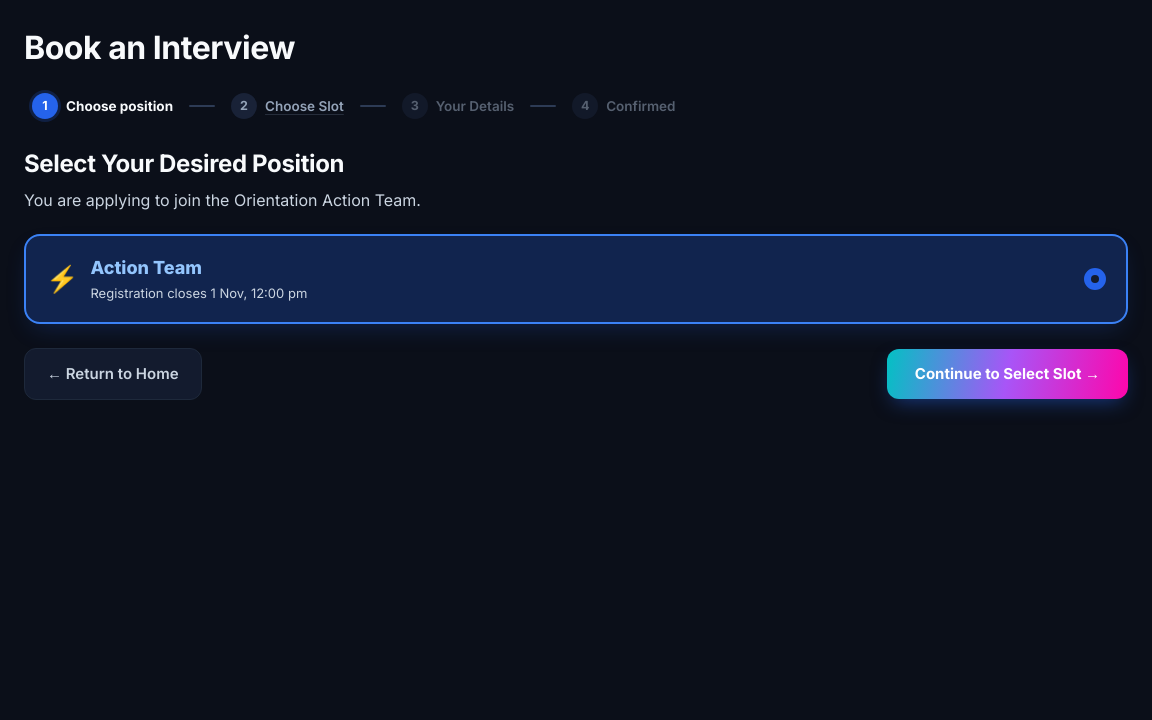
BookClient history and hold release › blocks proceeding when the closing time passes while the user is on the page
Expected: the text "Registration closes 1 Nov, 12:00 pm" is shown, [90,284,307,304]
What coordinates should you click on to do the following:
click the button "Continue to Select Slot →"
I would click on:
 (1007, 374)
Its box is [887,348,1128,399].
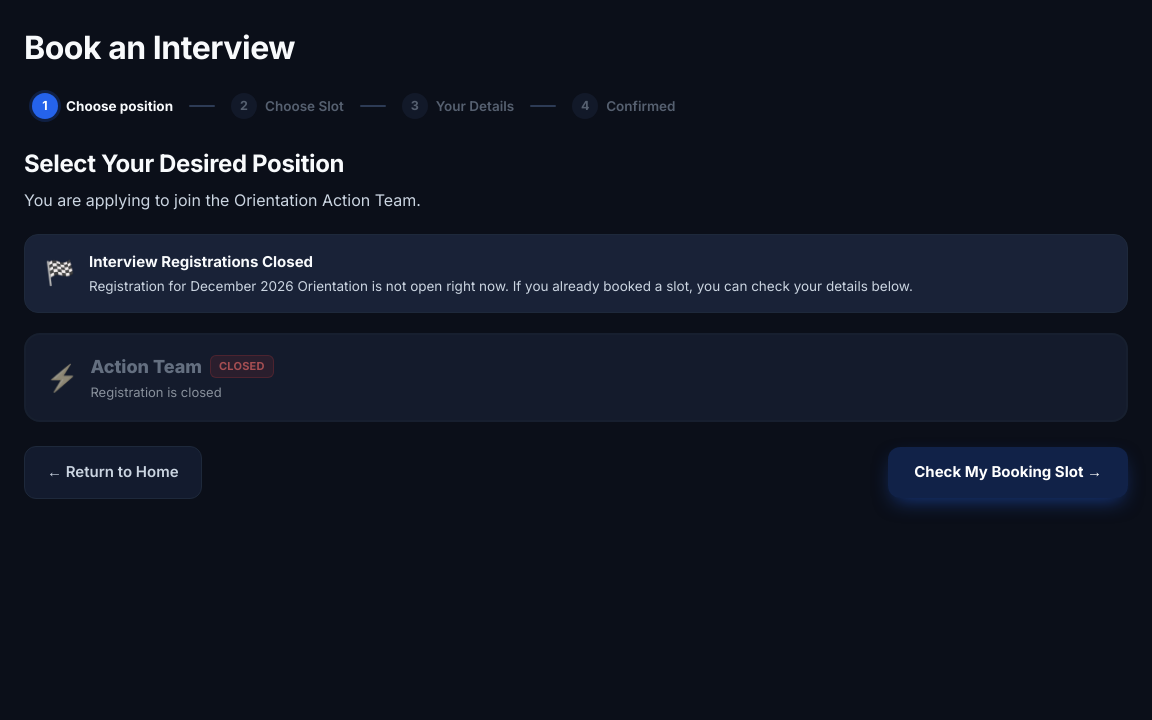
Expected: the link "Check My Booking Slot →" is shown, [888,447,1128,498]
